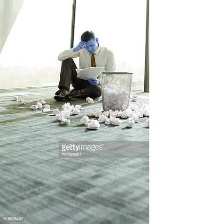book: (89, 109, 135, 126), (99, 86, 130, 109), (71, 63, 105, 82), (131, 98, 149, 118), (83, 119, 103, 131), (83, 94, 95, 107), (109, 116, 122, 127), (75, 114, 89, 124), (59, 116, 71, 127), (59, 102, 72, 111), (125, 117, 134, 130), (52, 112, 66, 120), (28, 101, 38, 112), (144, 116, 152, 129), (130, 94, 140, 103), (37, 97, 48, 105), (74, 102, 83, 111), (42, 102, 50, 112), (35, 101, 44, 109), (11, 94, 18, 102), (17, 99, 24, 105)
